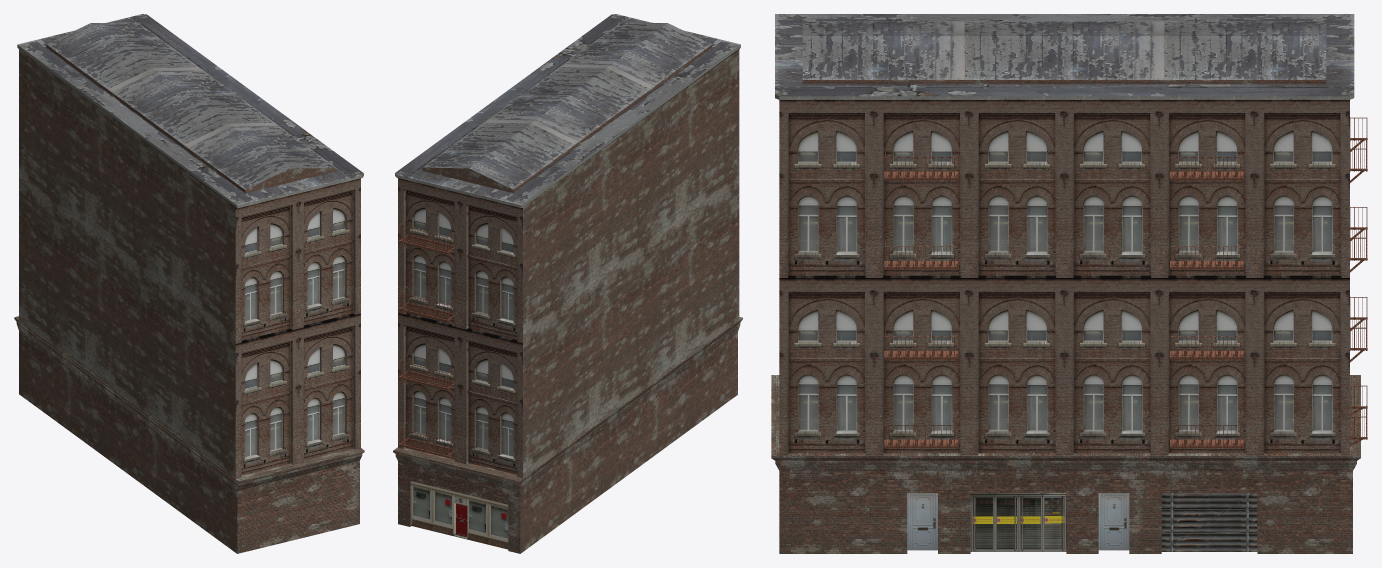
The model's file is Building C.fbx.
3 views of the same model, side by side, from view 1: azimuth 30°, elevation 25°; view 2: azimuth 150°, elevation 25°; view 3: azimuth 270°, elevation 25° (orthographic). The views are drawn at different scales.
Parts seen in each view (by area): view 1: K_Building_A03_00; view 2: K_Building_A03_00; view 3: K_Building_A03_00.
Part boxes in pixels (x1,y1,x2,y2): K_Building_A03_00: [14, 14, 364, 553]; K_Building_A03_00: [393, 14, 742, 553]; K_Building_A03_00: [771, 14, 1367, 553].
Bounding box in the file's own units: 861 × 2276 × 2571.
8 materials, 8 textured.
